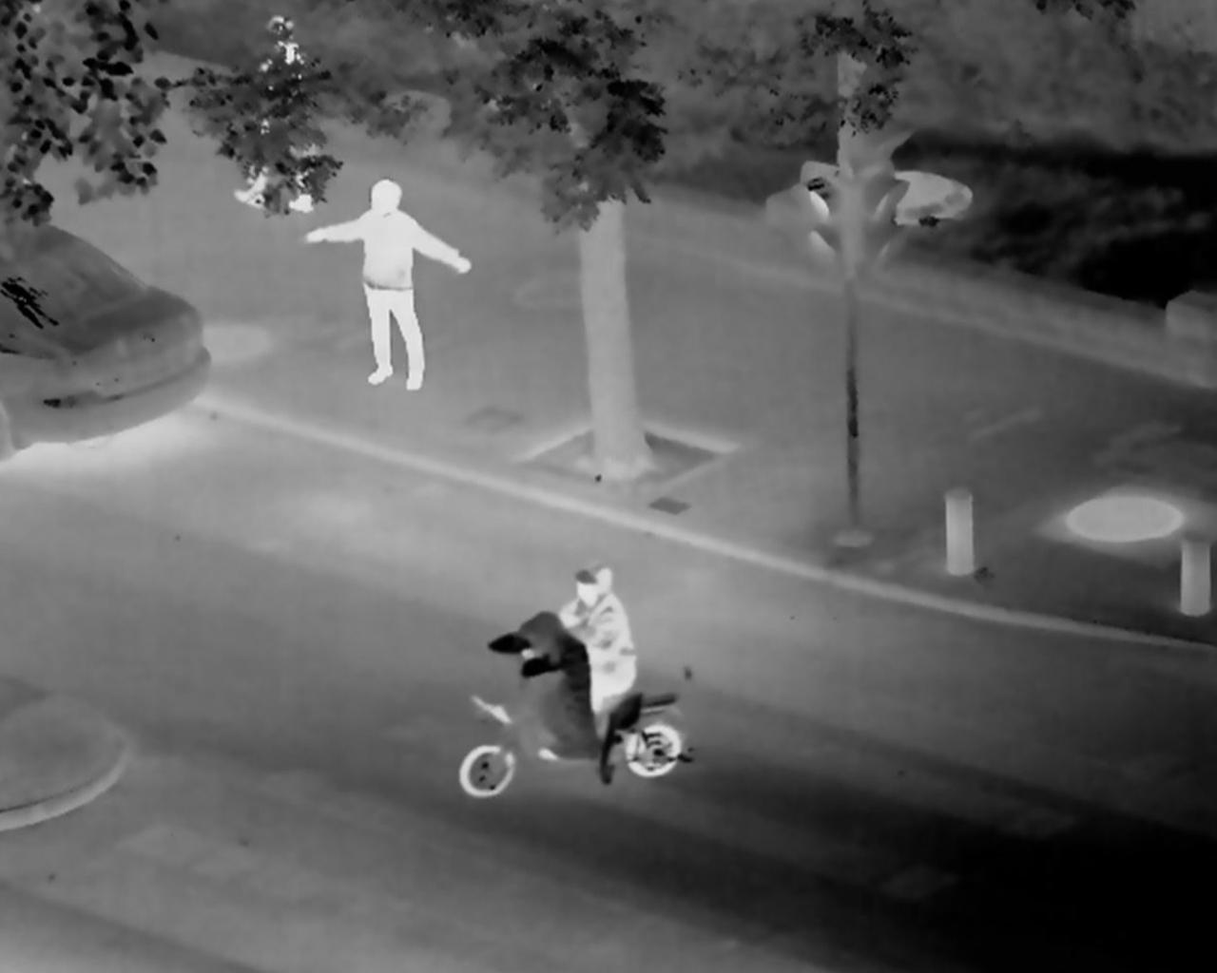person: (300, 186, 470, 404), (547, 556, 661, 719)
